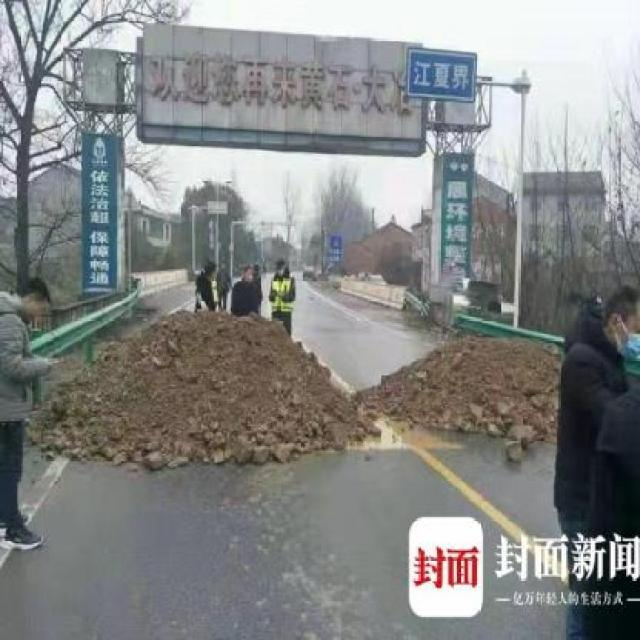garbage: (81, 308, 304, 467), (346, 340, 553, 462)
